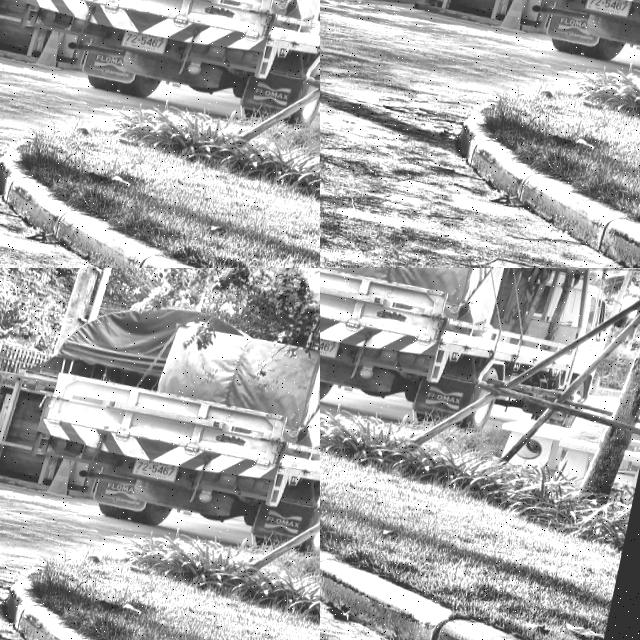license-plate: (320, 334, 341, 365)
